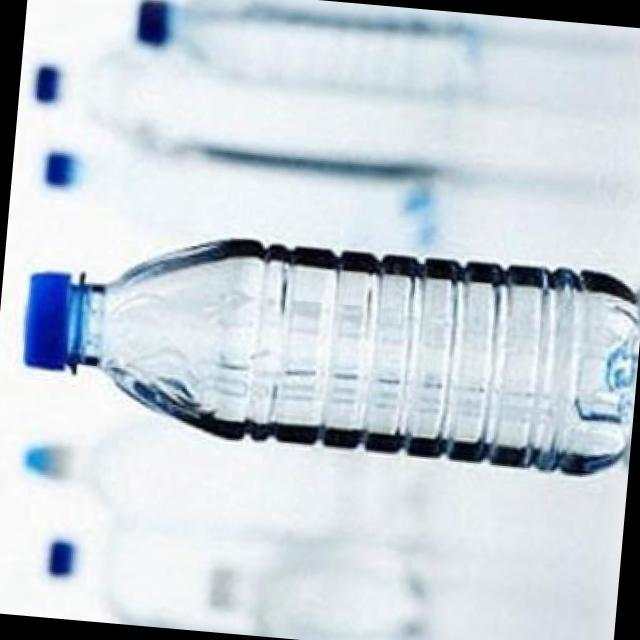good: (3, 196, 640, 501)
